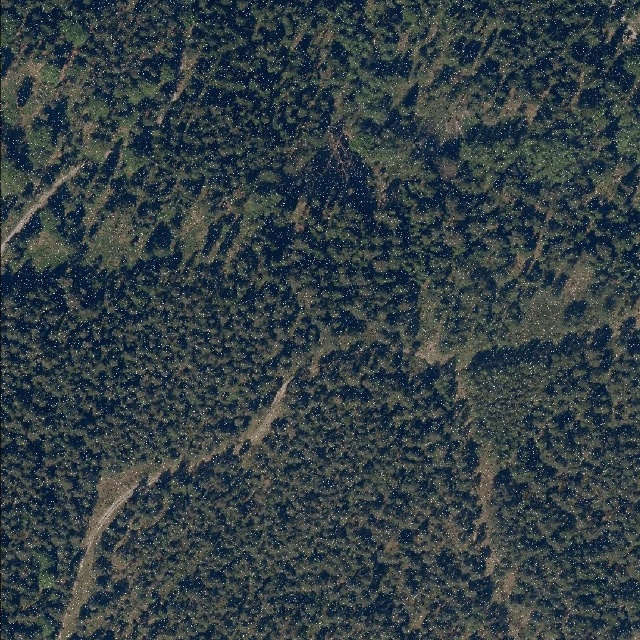vegetation: (67, 351, 528, 640), (468, 318, 640, 640)
